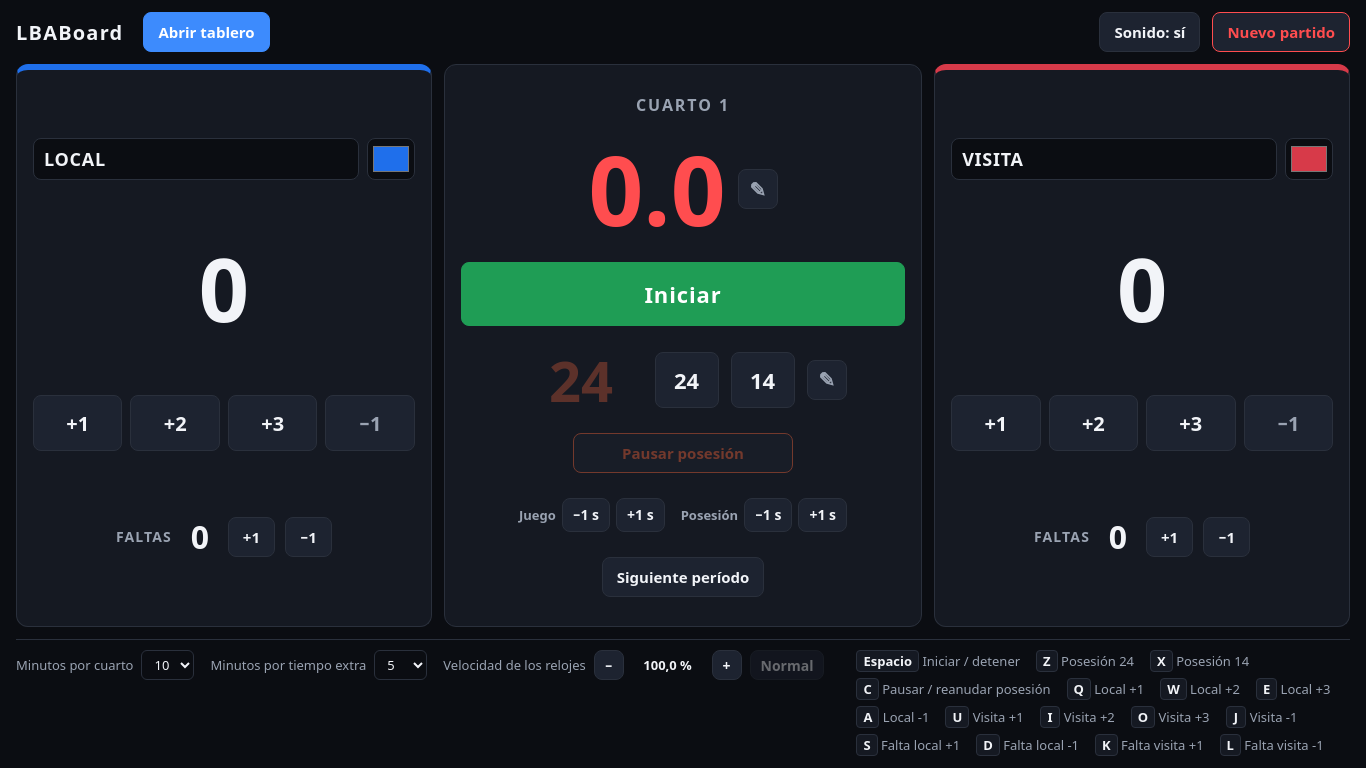
Test case: Control › moves to the next period without asking when the clock is at 0
Click the button "Siguiente período". click: (683, 577)
box: [602,557,764,597]
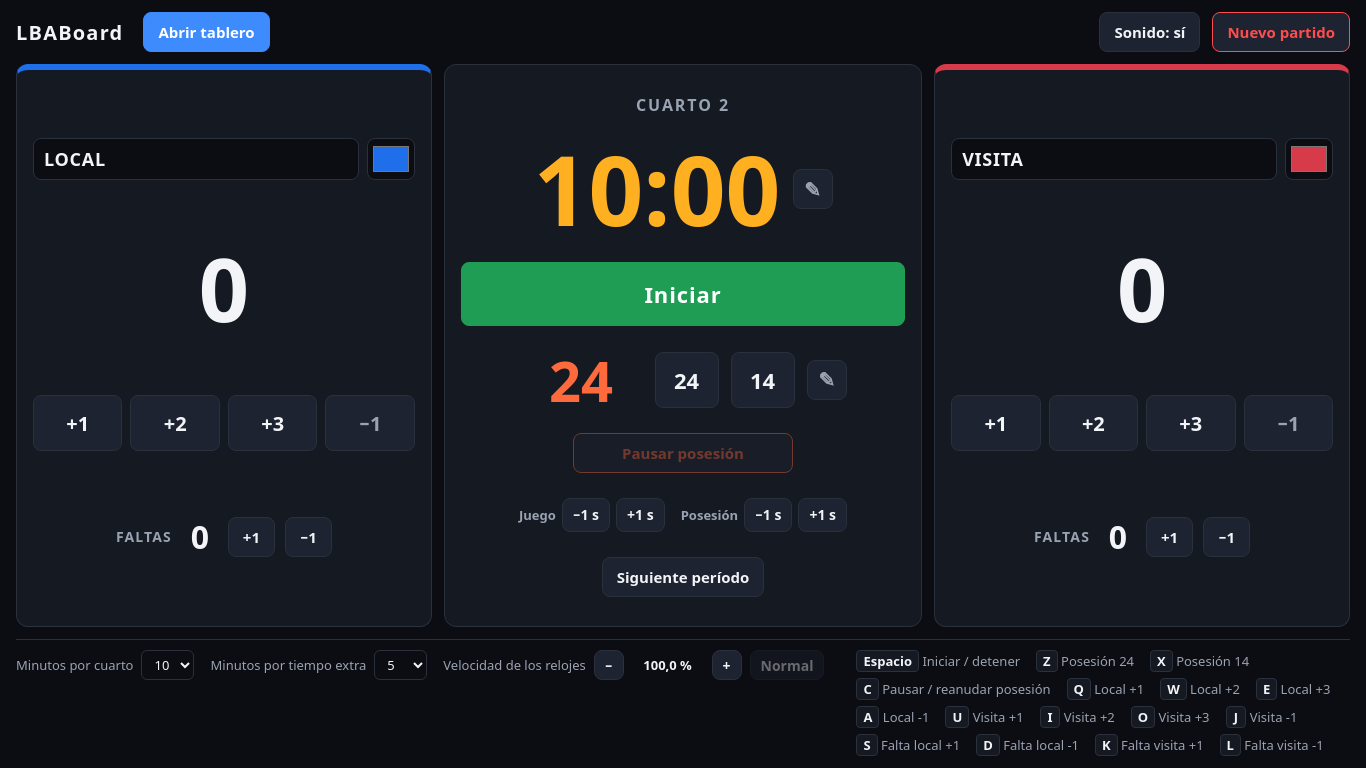
Result: the text "CUARTO 2" is shown at [636,94,730,116]
